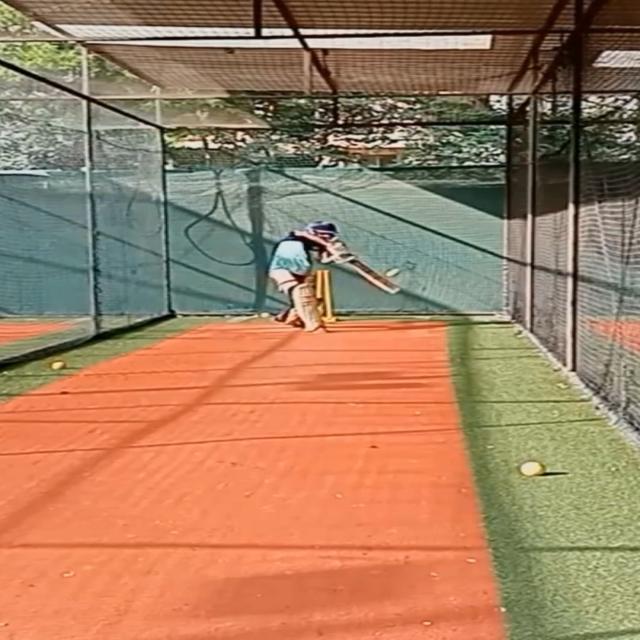ball: (382, 266, 402, 278)
stump: (310, 269, 336, 324)
